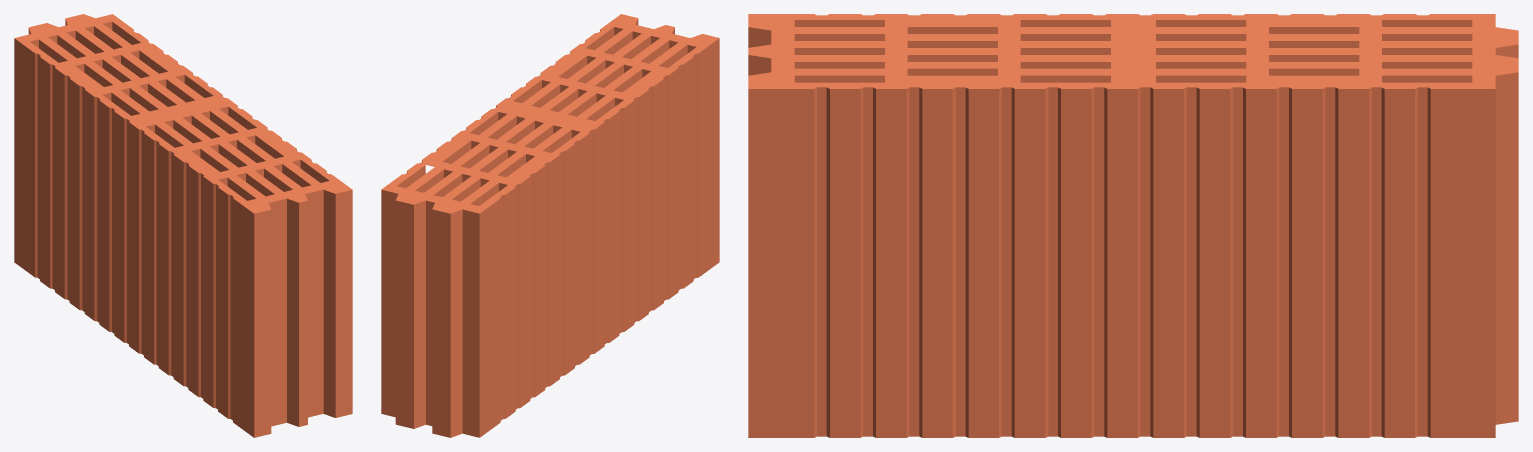
The picture shows the model from 3 angles, left to right: view 1: azimuth 30°, elevation 25°; view 2: azimuth 150°, elevation 25°; view 3: azimuth 270°, elevation 25°; orthographic projection. The views are drawn at different scales.
Parts seen in each view (by area): view 1: Nichtragender Innenziegel; view 2: Nichtragender Innenziegel; view 3: Nichtragender Innenziegel.
Boxes of the visible parts, x1=… form: Nichtragender Innenziegel: x1=14, y1=14, x2=352, y2=437; Nichtragender Innenziegel: x1=381, y1=14, x2=719, y2=437; Nichtragender Innenziegel: x1=748, y1=14, x2=1518, y2=437.
Bounding box in the file's own units: 0.115 × 0.25 × 0.5.
